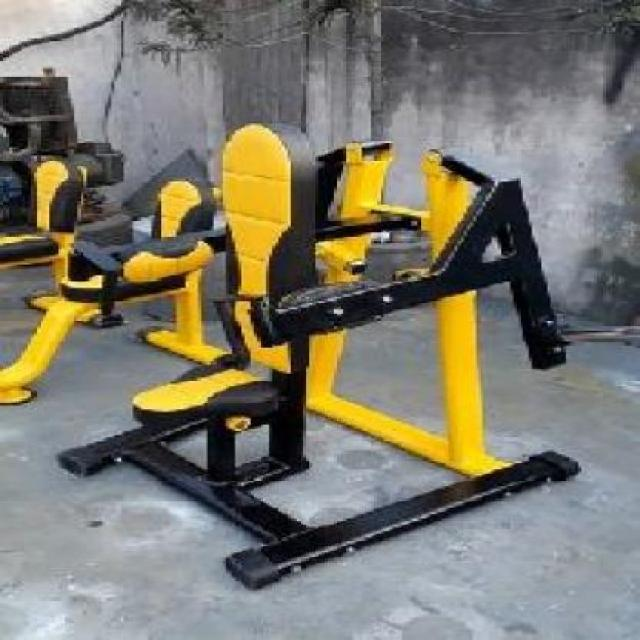lateral raises machine: (120, 119, 588, 596)
